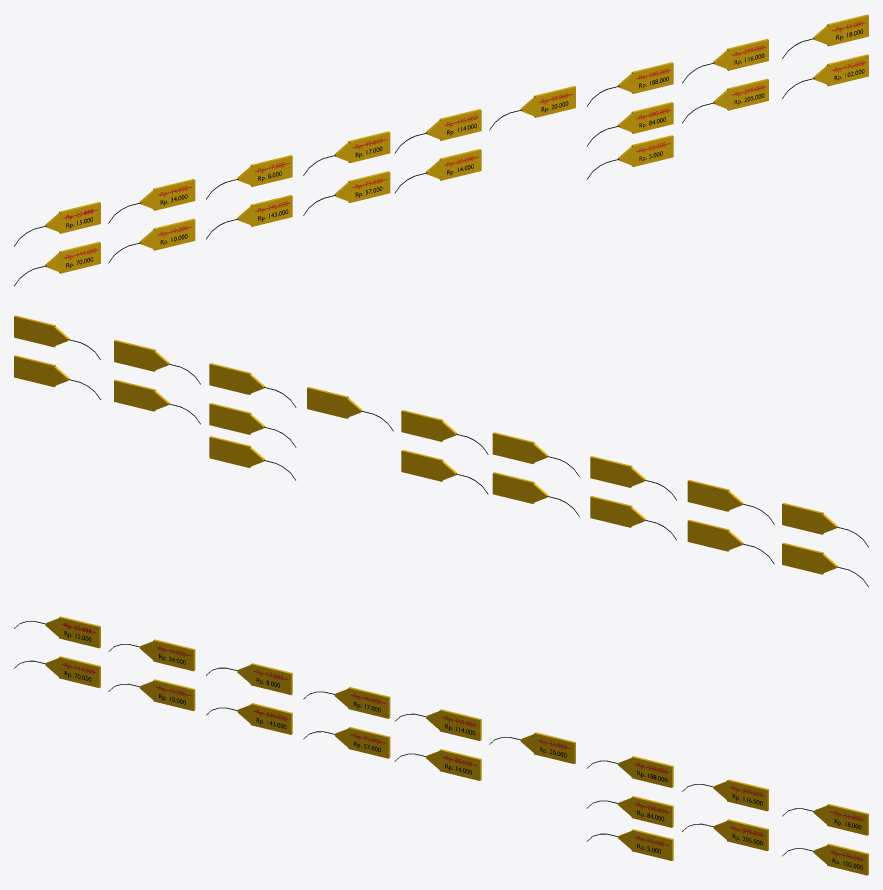
Rendered from Tags.fbx.
The picture shows the model from 3 angles, top to bottom: view 1: azimuth 30°, elevation 25°; view 2: azimuth 150°, elevation 25°; view 3: azimuth 330°, elevation 25°; orthographic projection.
Visible parts, largest first — view 1: Cube.185, Text.052, Text.058, Cube.189, Cube.183, Cube.184, Cube.181, Text.037, Text.039, Text.054, Text.055, Cube.191 (+6 smaller); view 2: Cube.185, Text.052, Text.058, Cube.189, Cube.183, Cube.184, Cube.181, Text.037, Text.039, Text.054, Text.055, Cube.191 (+6 smaller); view 3: Text.052, Cube.185, Text.058, Text.037, Cube.181, Cube.189, Text.039, Cube.183, Cube.184, Text.054, Text.055, Text.062 (+6 smaller).
Boxes of the visible parts, x1,y1,x2,y2 form: Cube.185: (303, 171, 390, 215); Text.052: (303, 131, 390, 175); Text.058: (108, 218, 195, 263); Cube.189: (108, 179, 195, 223); Cube.183: (394, 149, 481, 193); Cube.184: (394, 109, 481, 153); Cube.181: (587, 135, 673, 179); Text.037: (586, 102, 673, 146); Text.039: (586, 62, 673, 106); Text.054: (206, 195, 292, 239); Text.055: (206, 155, 292, 199); Cube.191: (14, 202, 100, 246); Cube.185: (492, 472, 579, 516); Text.052: (492, 432, 579, 476); Text.058: (687, 519, 774, 564); Cube.189: (687, 480, 774, 524); Cube.183: (401, 450, 488, 494); Cube.184: (401, 410, 488, 454); Cube.181: (209, 436, 295, 480); Text.037: (209, 403, 296, 447); Text.039: (209, 363, 296, 407); Text.054: (590, 496, 676, 540); Text.055: (590, 456, 676, 500); Cube.191: (782, 503, 868, 547); Text.052: (303, 687, 390, 718); Cube.185: (303, 727, 390, 758); Text.058: (108, 679, 195, 711); Text.037: (586, 796, 673, 827); Cube.181: (586, 829, 673, 860); Cube.189: (108, 639, 195, 671); Text.039: (586, 756, 673, 787); Cube.183: (394, 749, 481, 780); Cube.184: (394, 709, 481, 740); Text.054: (206, 703, 292, 734); Text.055: (206, 663, 292, 694); Text.062: (14, 656, 100, 688).
Bounding box in the file's own units: 502 × 54.18 × 1.63.
